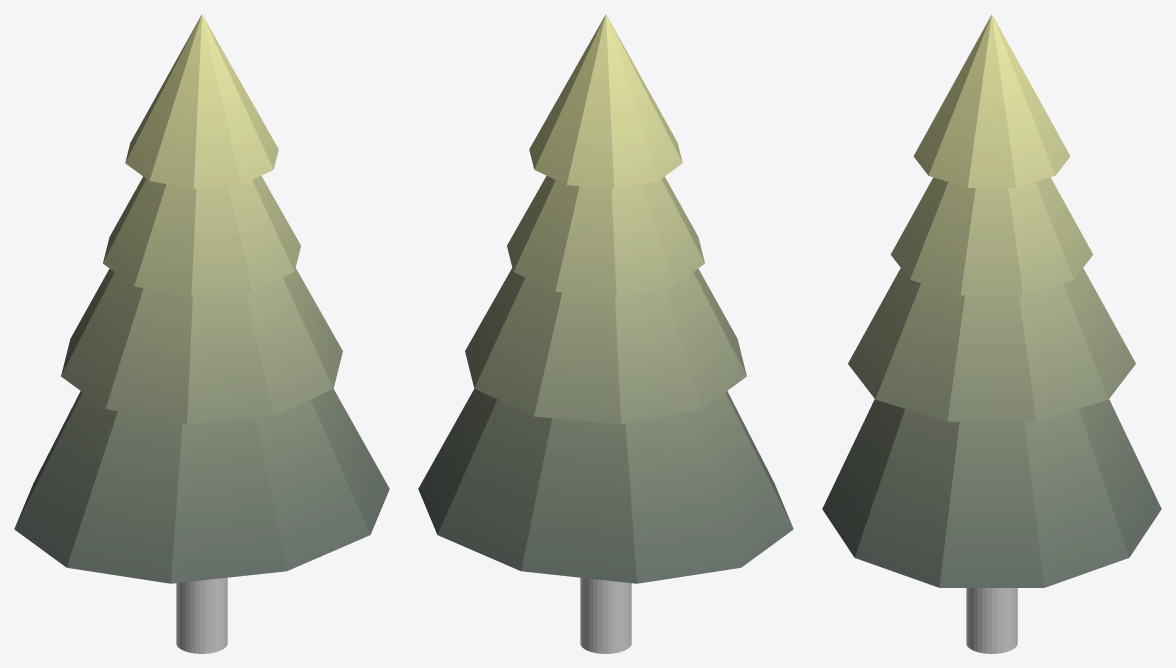
Rendered from tree01.glb.
The picture shows the model from 3 angles, left to right: view 1: azimuth 30°, elevation 25°; view 2: azimuth 150°, elevation 25°; view 3: azimuth 270°, elevation 25°; orthographic projection.
Visible parts, largest first — view 1: 锥体, 柱体; view 2: 锥体, 柱体; view 3: 锥体, 柱体.
Part boxes in pixels (<box>): 锥体: <box>14,14,389,583</box>; 柱体: <box>176,577,227,653</box>; 锥体: <box>418,14,793,583</box>; 柱体: <box>580,577,631,653</box>; 锥体: <box>822,14,1161,587</box>; 柱体: <box>966,588,1017,653</box>.
Size of the model in its own units: 2.74 by 5.11 by 2.5.
Materials: 1 (1 with a texture image).
